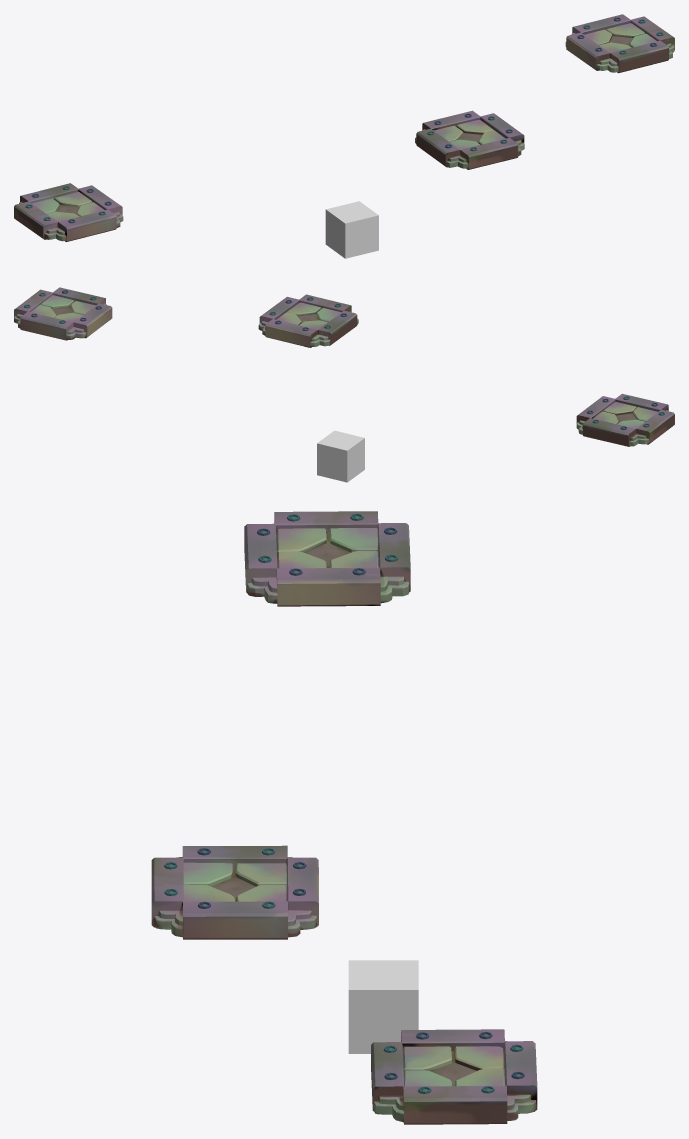
File: battlescence-1-floor006.fbx
The picture shows the model from 3 angles, top to bottom: view 1: azimuth 30°, elevation 25°; view 2: azimuth 150°, elevation 25°; view 3: azimuth 270°, elevation 25°; orthographic projection. The views are drawn at different scales.
Visible parts, largest first — view 1: Circle.002, Circle.003, Circle.004, battlescence-1-floor006; view 2: Circle.003, Circle.004, Circle.002, battlescence-1-floor006; view 3: Circle.003, Circle.004, Circle.002, battlescence-1-floor006.
Part boxes in pixels (left/top/right/bottom): Circle.002: left=565, top=14, right=674, bottom=73; Circle.003: left=415, top=110, right=524, bottom=169; Circle.004: left=14, top=183, right=123, bottom=241; battlescence-1-floor006: left=325, top=201, right=378, bottom=258; Circle.003: left=258, top=294, right=358, bottom=347; Circle.004: left=576, top=393, right=674, bottom=446; Circle.002: left=14, top=287, right=112, bottom=340; battlescence-1-floor006: left=317, top=430, right=364, bottom=482; Circle.003: left=151, top=845, right=318, bottom=939; Circle.004: left=244, top=511, right=410, bottom=606; Circle.002: left=371, top=1029, right=537, bottom=1124; battlescence-1-floor006: left=348, top=960, right=418, bottom=1053.
Size of the model in its own units: 2772 by 507 by 767.
